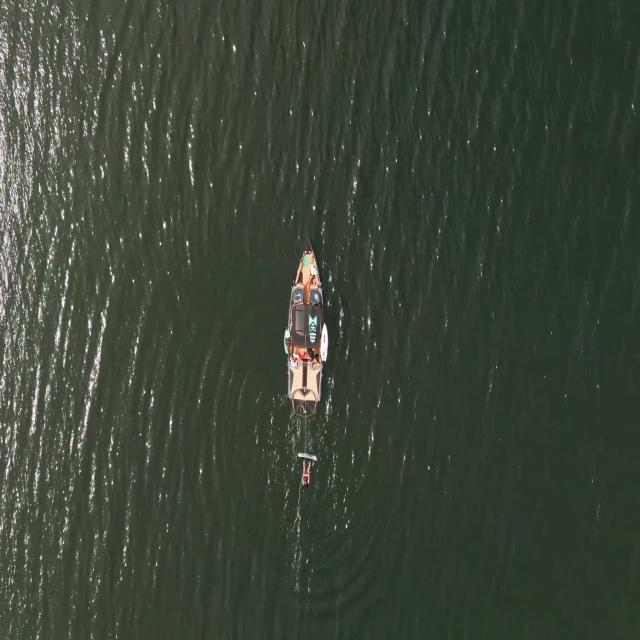ship: (283, 241, 326, 413), (320, 323, 329, 364)
